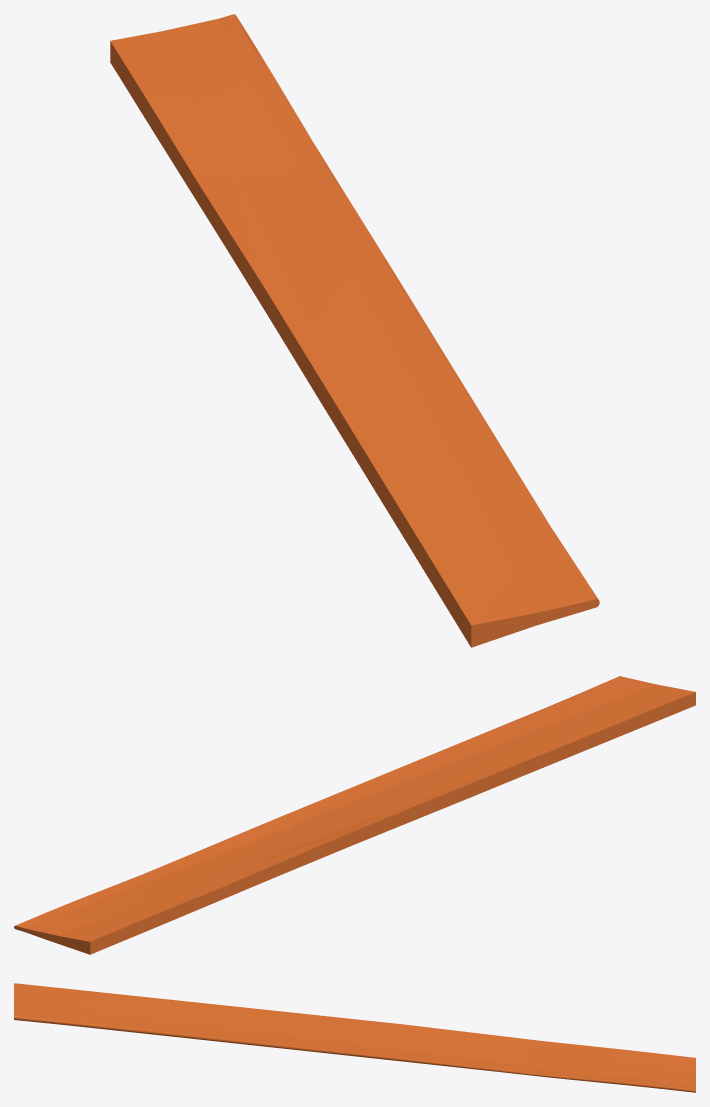
File: right_elevon__right_elevon_visual.glb
The picture shows the model from 3 angles, top to bottom: view 1: azimuth 30°, elevation 25°; view 2: azimuth 150°, elevation 25°; view 3: azimuth 270°, elevation 25°; orthographic projection. The views are drawn at different scales.
Parts seen in each view (by area): view 1: node; view 2: node; view 3: node.
Part boxes in pixels (box(x1,y1,x2,y2)): node: box(110, 14, 599, 647); node: box(14, 676, 695, 954); node: box(14, 983, 695, 1092).
Bounding box in the file's own units: 0.1836 × 0.0116 × 0.485.
